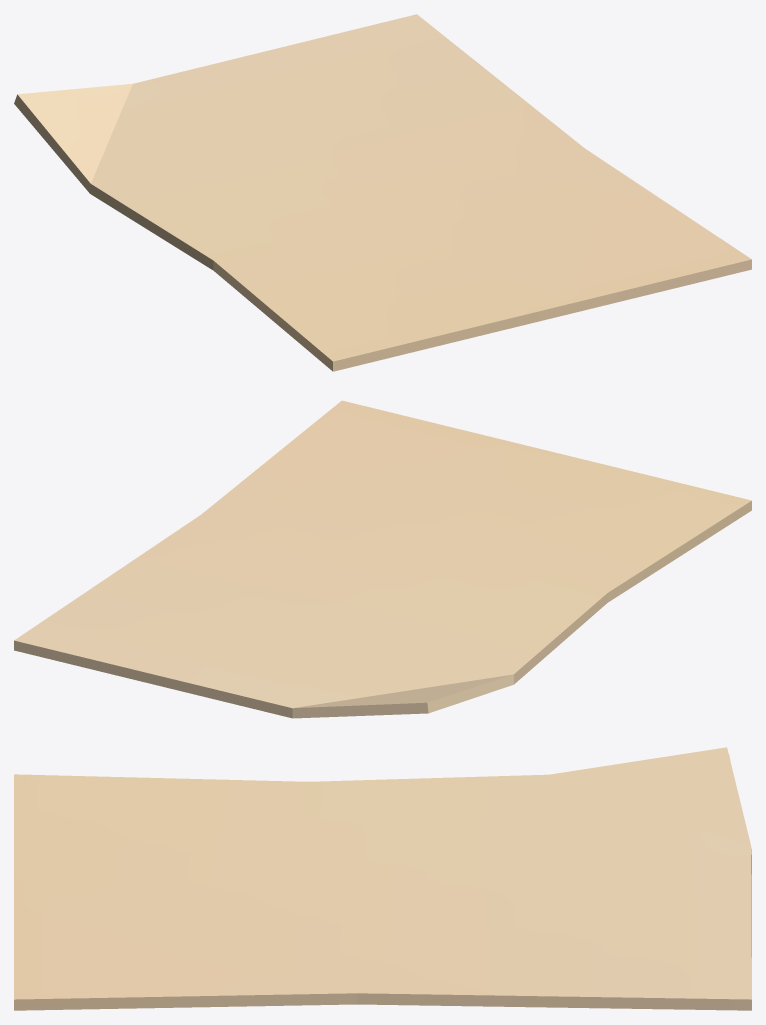
Rendered from Paper_02.glb.
3 views of the same model, one above another, from view 1: azimuth 30°, elevation 25°; view 2: azimuth 150°, elevation 25°; view 3: azimuth 270°, elevation 25° (orthographic). The views are drawn at different scales.
Parts seen in each view (by area): view 1: Paper_02; view 2: Paper_02; view 3: Paper_02.
Boxes of the visible parts, x1=… form: Paper_02: x1=14, y1=14, x2=751, y2=371; Paper_02: x1=14, y1=400, x2=751, y2=718; Paper_02: x1=14, y1=747, x2=751, y2=1010.
Bounding box in the file's own units: 0.224 × 0.0197 × 0.3103.
1 material, 1 textured.
